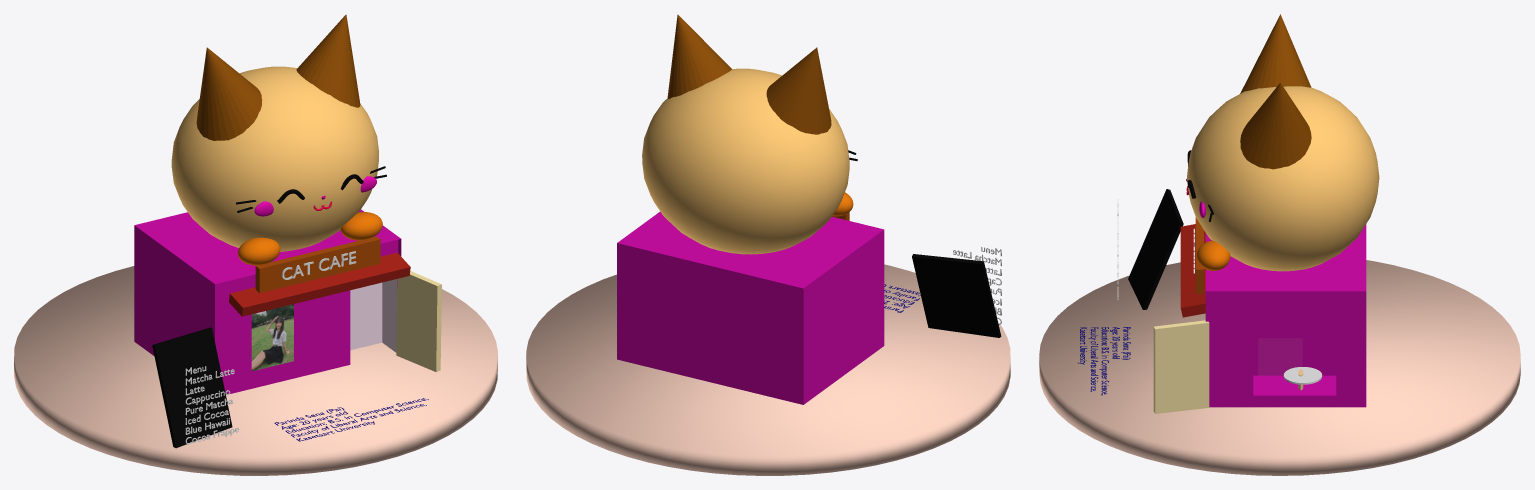
File: catcafe.glb
3 views of the same model, side by side, from view 1: azimuth 30°, elevation 25°; view 2: azimuth 150°, elevation 25°; view 3: azimuth 270°, elevation 25° (orthographic).
Parts seen in each view (by area): view 1: Base_Ground, Cat_Head_Toon, Building_Main, Cube, Cat_Ear_L, Cube.001, Awning, Sign_Board, Cat_Ear_R, Frame_Selfie, Sign_Name_3D.003, Sign_Name_3D.002 (+2 smaller); view 2: Base_Ground, Building_Main, Cat_Head_Toon, Cube, Cat_Ear_L, Cat_Ear_R, Sign_Name_3D.003; view 3: Base_Ground, Cat_Head_Toon, Building_Main, Cube.001, Cat_Ear_R, Cube, Cat_Ear_L, Awning, Sign_Name_3D.002, Cat_Paw_R, Cylinder, Sign_Board.
Boxes of the visible parts, x1=… form: Base_Ground: x1=14, y1=266, x2=497, y2=475; Cat_Head_Toon: x1=171, y1=66, x2=378, y2=251; Building_Main: x1=134, y1=209, x2=401, y2=394; Cube: x1=152, y1=327, x2=232, y2=448; Cat_Ear_L: x1=196, y1=47, x2=262, y2=140; Cube.001: x1=396, y1=271, x2=441, y2=371; Awning: x1=229, y1=252, x2=410, y2=316; Sign_Board: x1=255, y1=236, x2=380, y2=293; Cat_Ear_R: x1=296, y1=14, x2=360, y2=107; Frame_Selfie: x1=251, y1=304, x2=293, y2=371; Sign_Name_3D.003: x1=185, y1=366, x2=239, y2=444; Sign_Name_3D.002: x1=274, y1=398, x2=428, y2=441; Base_Ground: x1=526, y1=264, x2=1010, y2=475; Building_Main: x1=617, y1=211, x2=884, y2=404; Cat_Head_Toon: x1=642, y1=68, x2=849, y2=254; Cube: x1=912, y1=254, x2=1001, y2=337; Cat_Ear_L: x1=766, y1=47, x2=831, y2=134; Cat_Ear_R: x1=667, y1=14, x2=731, y2=98; Sign_Name_3D.003: x1=953, y1=247, x2=1001, y2=324; Base_Ground: x1=1039, y1=260, x2=1520, y2=475; Cat_Head_Toon: x1=1187, y1=86, x2=1379, y2=271; Building_Main: x1=1205, y1=224, x2=1366, y2=407; Cube.001: x1=1153, y1=320, x2=1209, y2=413; Cat_Ear_R: x1=1240, y1=83, x2=1311, y2=169; Cube: x1=1128, y1=189, x2=1183, y2=309; Cat_Ear_L: x1=1240, y1=14, x2=1311, y2=93; Awning: x1=1180, y1=224, x2=1205, y2=317; Sign_Name_3D.002: x1=1078, y1=327, x2=1130, y2=395; Cat_Paw_R: x1=1196, y1=240, x2=1230, y2=270; Cylinder: x1=1283, y1=367, x2=1322, y2=384; Sign_Board: x1=1195, y1=217, x2=1203, y2=293.
Bounding box in the file's own units: 9 × 6.94 × 9.
Materials: 27 (1 with a texture image).
